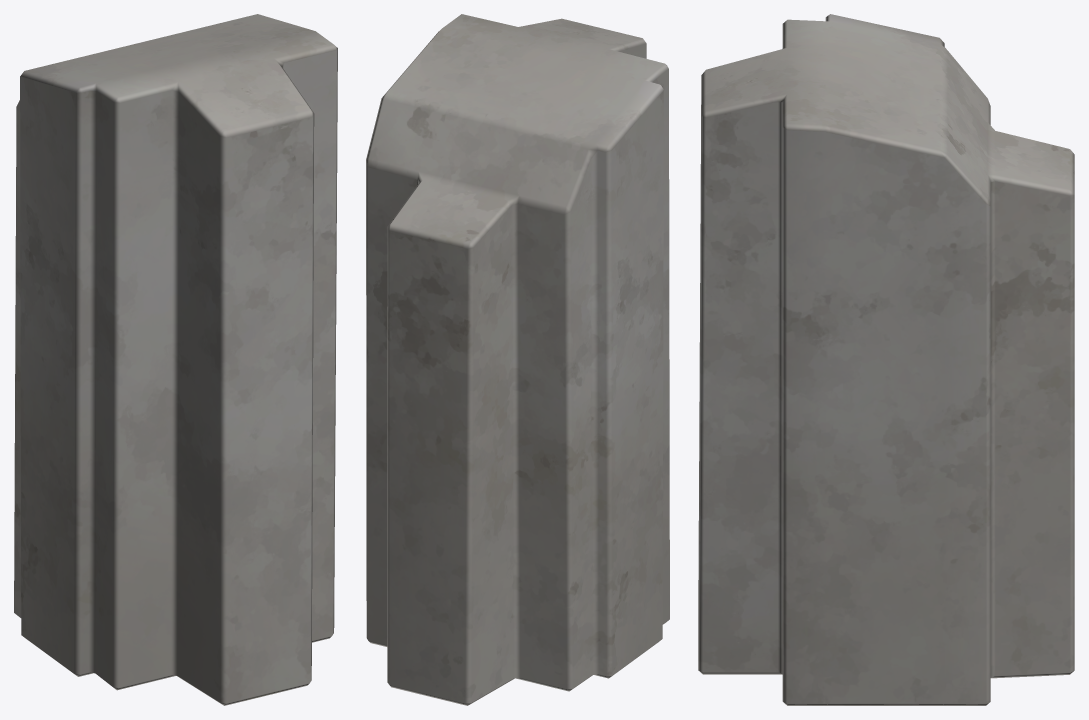
Rendered from SM_Pillar_Bridge_03.fbx.
The picture shows the model from 3 angles, left to right: view 1: azimuth 30°, elevation 25°; view 2: azimuth 150°, elevation 25°; view 3: azimuth 270°, elevation 25°; orthographic projection. The views are drawn at different scales.
Parts seen in each view (by area): view 1: SM_Pillar_Bridge_03_LOD0; view 2: SM_Pillar_Bridge_03_LOD0; view 3: SM_Pillar_Bridge_03_LOD0.
Part boxes in pixels (<box>): SM_Pillar_Bridge_03_LOD0: <box>14,14,337,705</box>; SM_Pillar_Bridge_03_LOD0: <box>366,14,669,705</box>; SM_Pillar_Bridge_03_LOD0: <box>698,14,1074,705</box>.
Bounding box in the file's own units: 51.55 × 70.52 × 121.
1 material, 1 textured.
